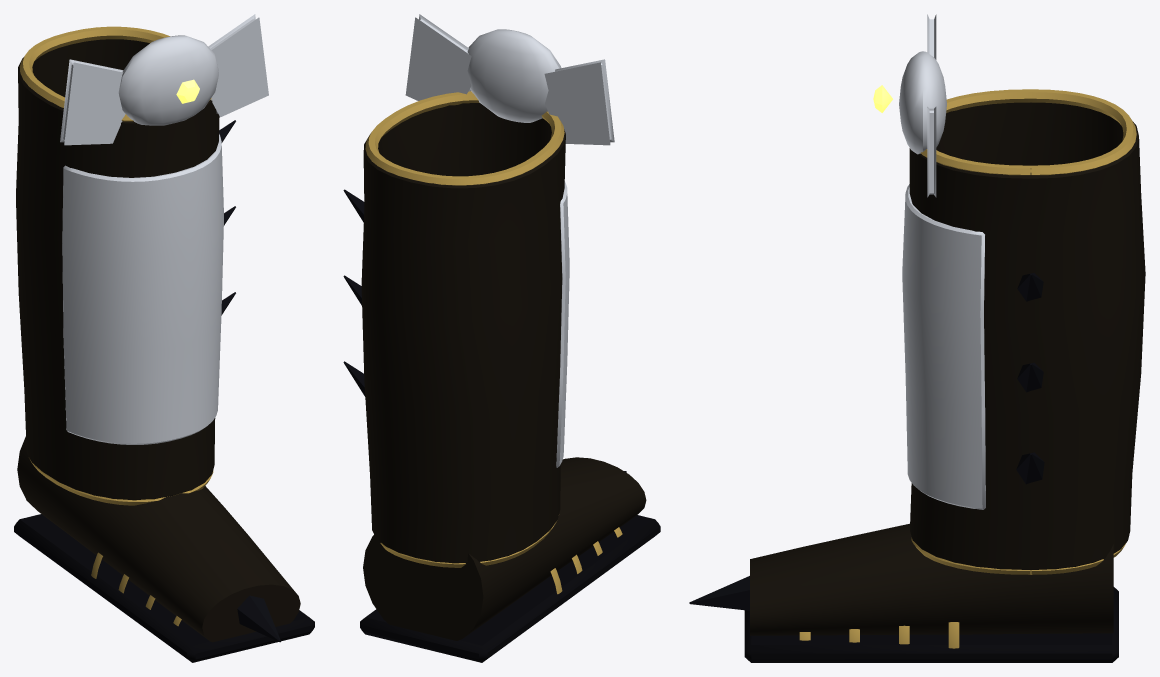
File: esc_null_reaper_boots.glb
The picture shows the model from 3 angles, left to right: view 1: azimuth 30°, elevation 25°; view 2: azimuth 150°, elevation 25°; view 3: azimuth 270°, elevation 25°; orthographic projection. The views are drawn at different scales.
Visible parts, largest first — view 1: esc_null_reaper_boots, AT_foot_L; view 2: esc_null_reaper_boots, AT_foot_L; view 3: esc_null_reaper_boots, AT_foot_L.
Part boxes in pixels (x1,y1,x2,y2): esc_null_reaper_boots: (16, 14, 268, 505); AT_foot_L: (14, 436, 314, 662); esc_null_reaper_boots: (343, 14, 614, 567); AT_foot_L: (360, 457, 660, 662); esc_null_reaper_boots: (873, 14, 1145, 574); AT_foot_L: (689, 523, 1118, 662).
Size of the model in its own units: 0.2427 by 0.5768 by 0.4142.
